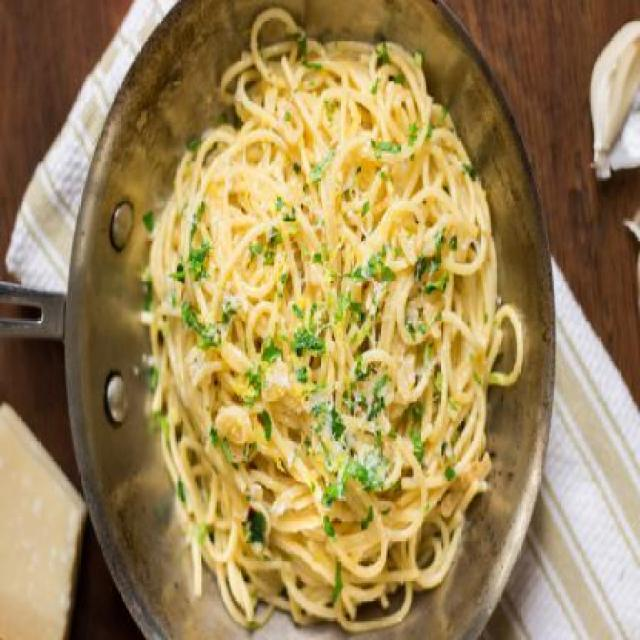Oil pasta: (136, 38, 546, 620)
